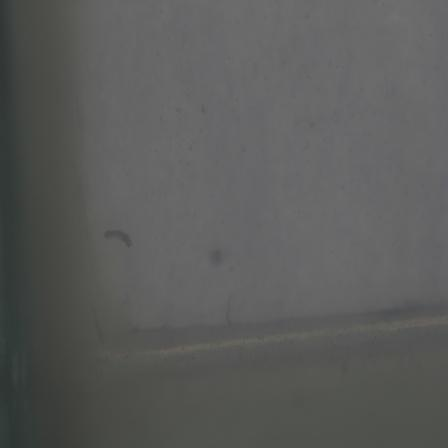Jentik-Nyamuk: (101, 224, 134, 251)
